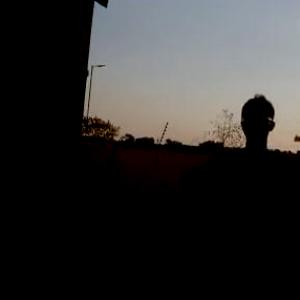follow: (178, 88, 300, 299)
